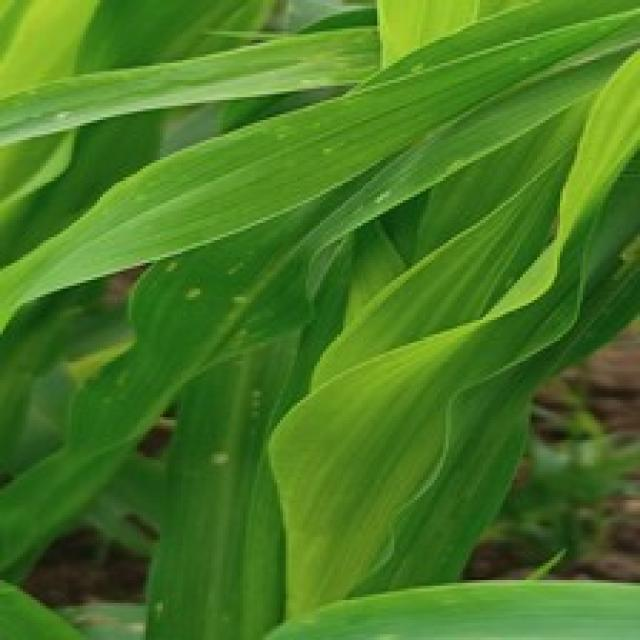Corn: (0, 0, 637, 637), (232, 574, 637, 637)
